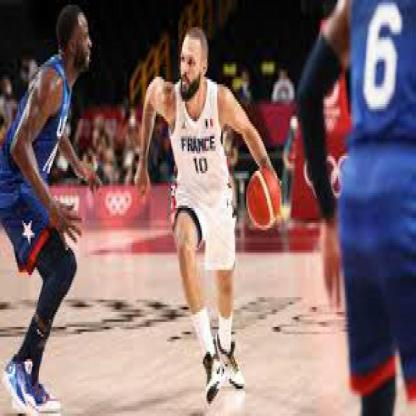basketball: (246, 168, 282, 230)
